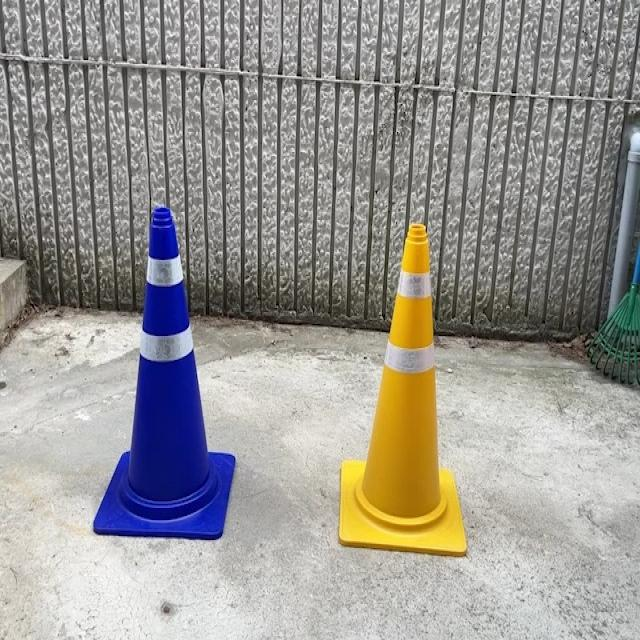b_rub: (92, 208, 237, 539)
y_rub: (338, 221, 468, 555)
